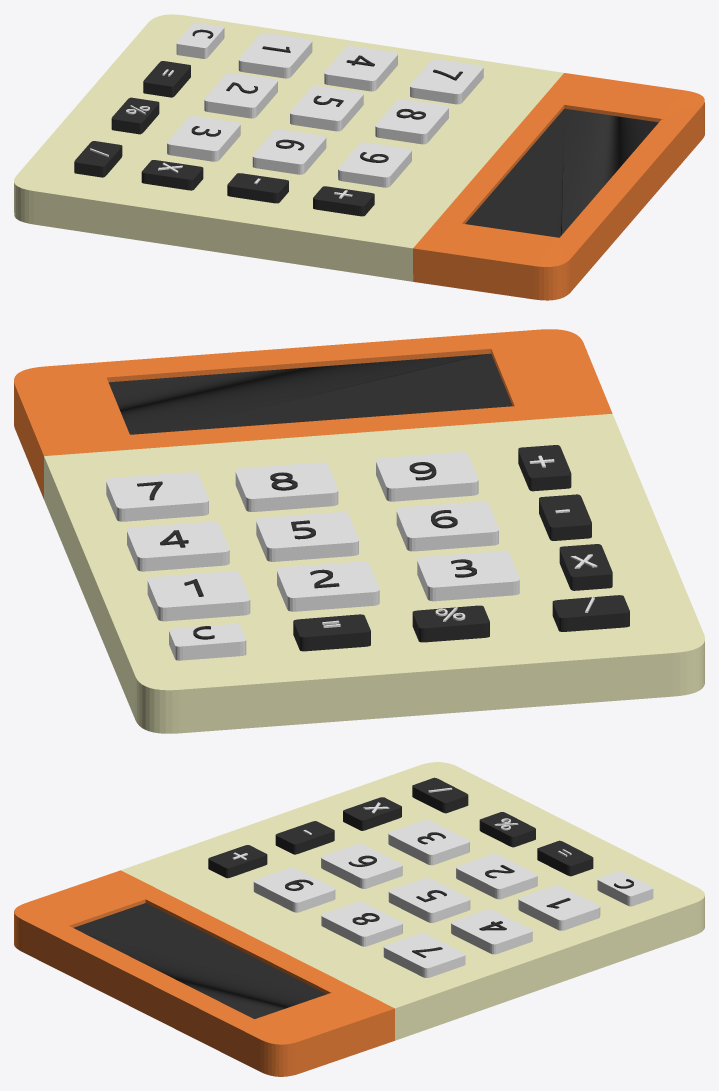
The model's file is 9cfd0332-ebfd-40eb-acfe-b8f24390c722.glb.
3 views of the same model, one above another, from view 1: azimuth 30°, elevation 25°; view 2: azimuth 150°, elevation 25°; view 3: azimuth 270°, elevation 25° (orthographic). The views are drawn at different scales.
Parts seen in each view (by area): view 1: Box20179, Object001, Box20181, Box20182, Box20180, Box20188, Box20183, Box20184, Box20185, Box20187, Box20186, Box20190 (+6 smaller); view 2: Box20179, Object001, Box20181, Box20180, Box20182, Box20188, Box20185, Box20183, Box20184, Box20187, Box20186, Box20195 (+6 smaller); view 3: Box20179, Object001, Box20181, Box20180, Box20182, Box20183, Box20188, Box20185, Box20184, Box20187, Box20186, Box20190 (+6 smaller).
Part boxes in pixels (x1=…): Box20179: x1=14, y1=14, x2=704, y2=300; Object001: x1=465, y1=108, x2=658, y2=237; Box20181: x1=238, y1=33, x2=312, y2=78; Box20182: x1=204, y1=72, x2=277, y2=118; Box20180: x1=167, y1=116, x2=240, y2=161; Box20188: x1=410, y1=59, x2=483, y2=104; Box20183: x1=290, y1=86, x2=363, y2=131; Box20184: x1=252, y1=129, x2=326, y2=174; Box20185: x1=324, y1=46, x2=397, y2=91; Box20187: x1=338, y1=142, x2=411, y2=187; Box20186: x1=375, y1=99, x2=448, y2=144; Box20190: x1=227, y1=173, x2=288, y2=203; Box20179: x1=14, y1=329, x2=704, y2=733; Object001: x1=108, y1=353, x2=512, y2=434; Box20181: x1=147, y1=571, x2=250, y2=621; Box20180: x1=417, y1=551, x2=519, y2=601; Box20182: x1=277, y1=561, x2=379, y2=611; Box20188: x1=106, y1=472, x2=208, y2=521; Box20185: x1=127, y1=521, x2=229, y2=571; Box20183: x1=256, y1=512, x2=358, y2=561; Box20184: x1=396, y1=501, x2=498, y2=551; Box20187: x1=376, y1=452, x2=478, y2=501; Box20186: x1=235, y1=462, x2=338, y2=511; Box20195: x1=552, y1=595, x2=629, y2=631; Box20179: x1=14, y1=762, x2=704, y2=1076; Object001: x1=74, y1=903, x2=326, y2=1018; Box20181: x1=518, y1=885, x2=600, y2=930; Box20180: x1=388, y1=820, x2=469, y2=865; Box20182: x1=456, y1=854, x2=537, y2=899; Box20183: x1=388, y1=878, x2=470, y2=922; Box20188: x1=383, y1=933, x2=465, y2=977; Box20185: x1=451, y1=909, x2=532, y2=954; Box20184: x1=321, y1=843, x2=402, y2=888; Box20187: x1=253, y1=867, x2=335, y2=912; Box20186: x1=321, y1=901, x2=402, y2=946; Box20190: x1=275, y1=821, x2=334, y2=854.
Size of the model in its own units: 759 by 55.5 by 779.
